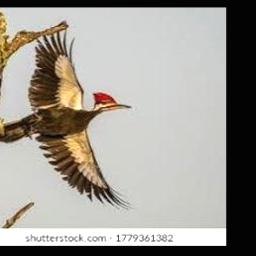Woodpecker: (0, 29, 135, 212)
